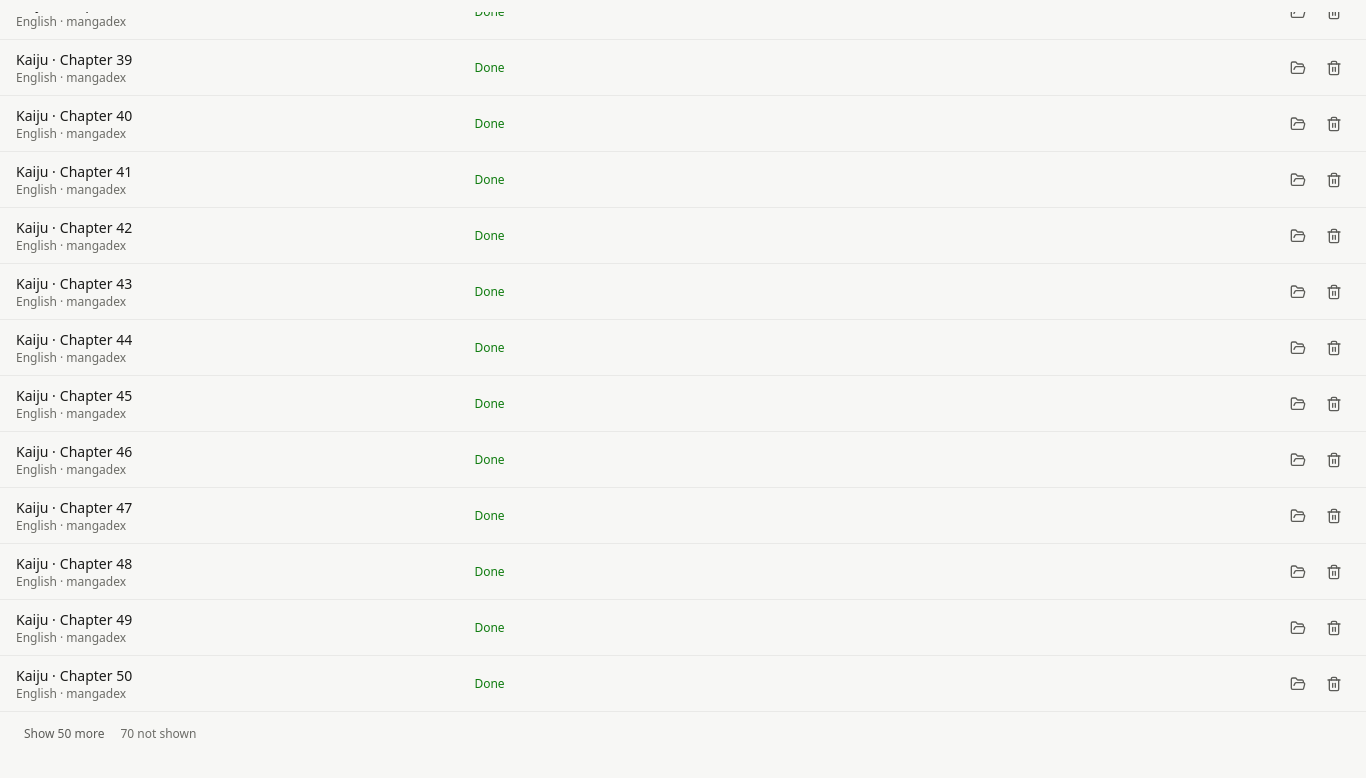
it: DownloadSection paging › adds a page per Show more until every row is shown
(page scrolled)
Click the button "Show 50 more": (64, 734) [16,720,112,748]
(page scrolled)
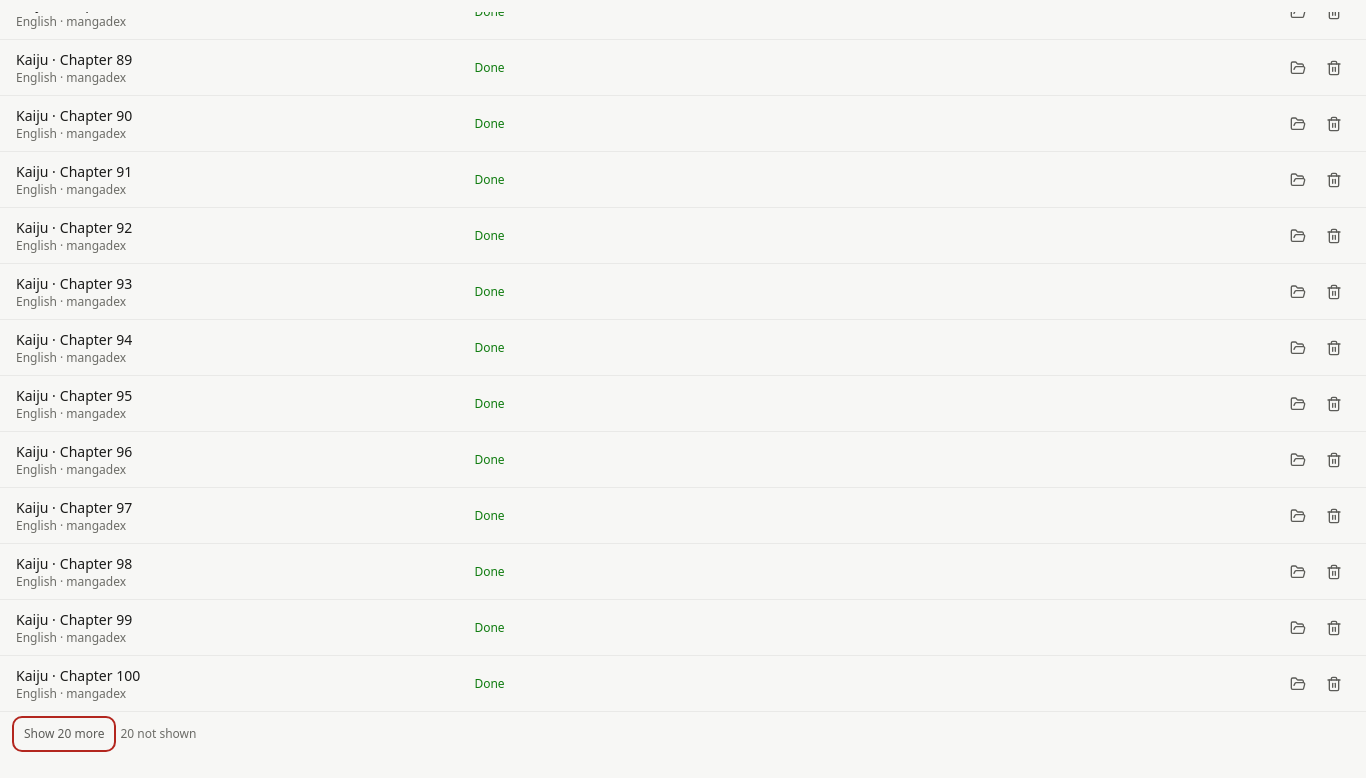
Click the button "Show 20 more": (64, 734) [16,720,112,748]
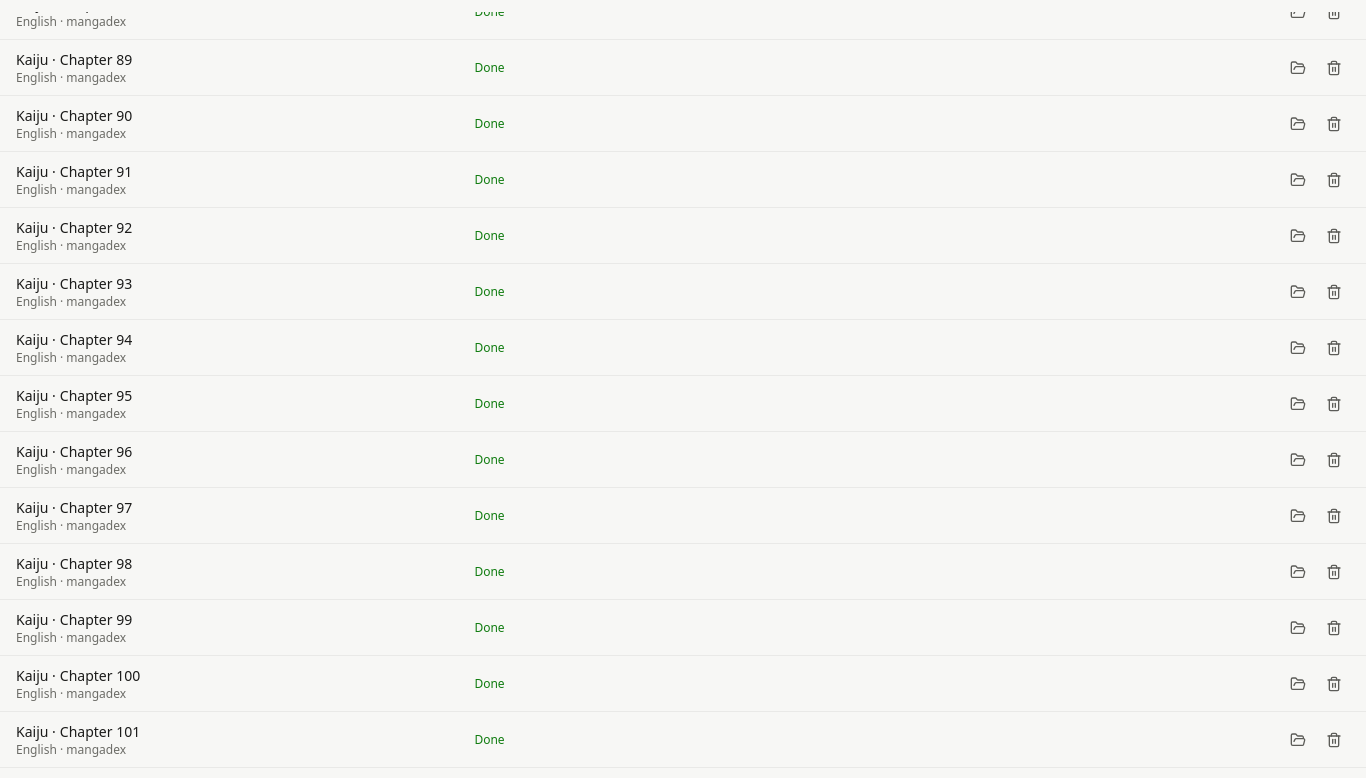
Check: the button "more" is gone
